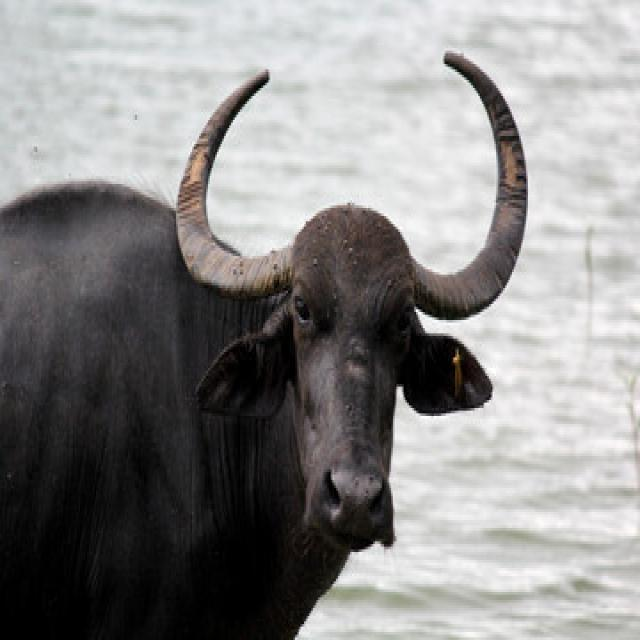Buffalo: (0, 46, 530, 638)
